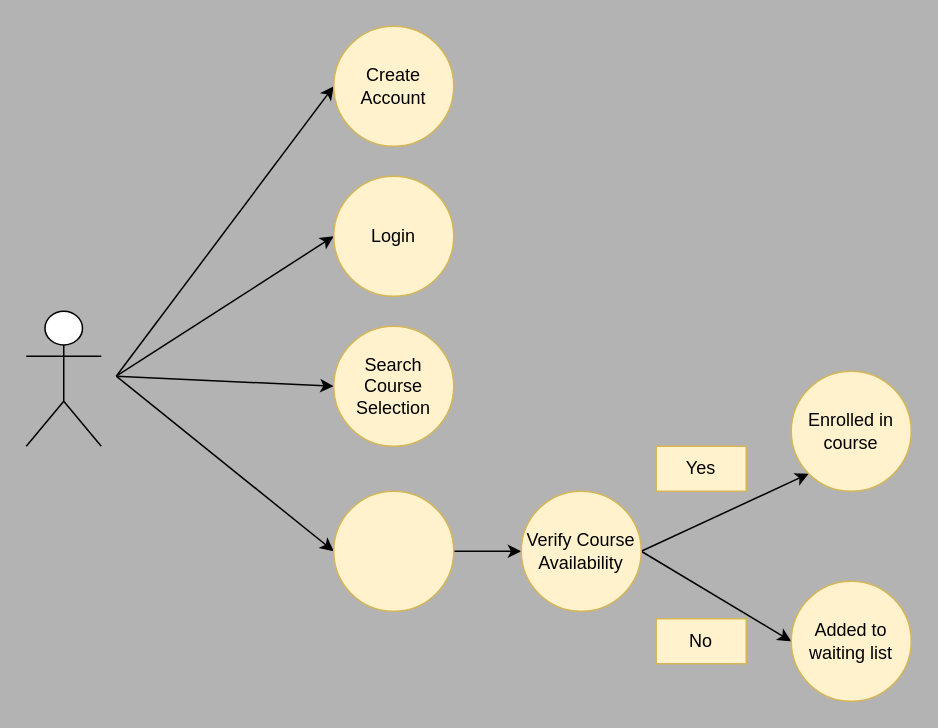
This 938x728 diagram has some shape labels left out. The shapes that lost their labels are listed below. From the top down, each one's centre as x and y in pixels, then its label:
(x=63, y=378): Student
(x=393, y=550): Enroll in course
